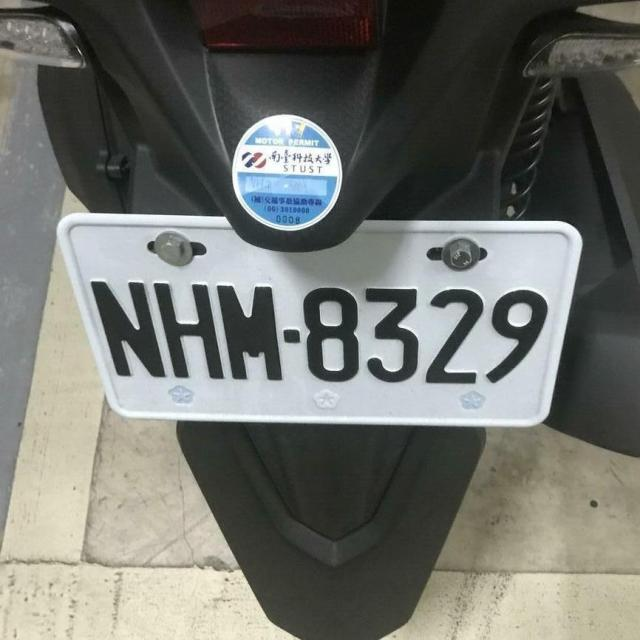W: (62, 218, 540, 447)
